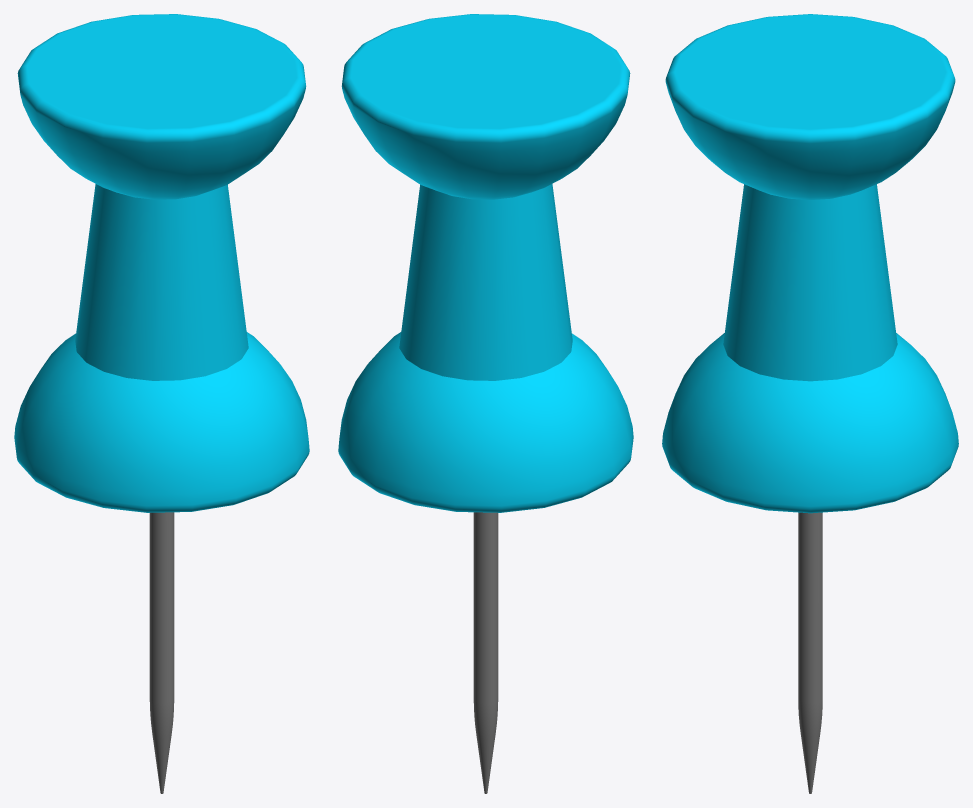
3 views of the same model, side by side, from view 1: azimuth 30°, elevation 25°; view 2: azimuth 150°, elevation 25°; view 3: azimuth 270°, elevation 25° (orthographic).
Visible parts, largest first — view 1: polySurface2, polySurface1; view 2: polySurface2, polySurface1; view 3: polySurface2, polySurface1.
Part boxes in pixels (x1,y1,x2,y2): polySurface2: (14,14,309,512); polySurface1: (149,512,174,793); polySurface2: (338,14,633,512); polySurface1: (473,512,498,793); polySurface2: (662,14,958,513); polySurface1: (798,512,822,793).
Bounding box in the file's own units: 1.21 × 3.23 × 1.21.
